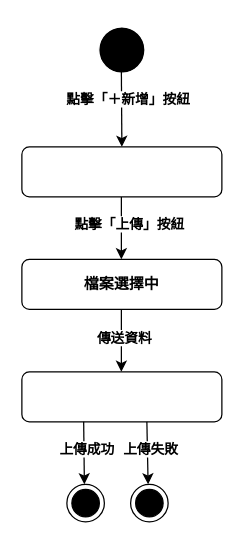
This 244x544 diagram has some shape labels left out. Here are the shapes that lost their labels. From the top down, the box of each, then its label:
(21, 146, 222, 197): 顯示上傳視窗
(21, 371, 222, 422): 處理上傳資料
